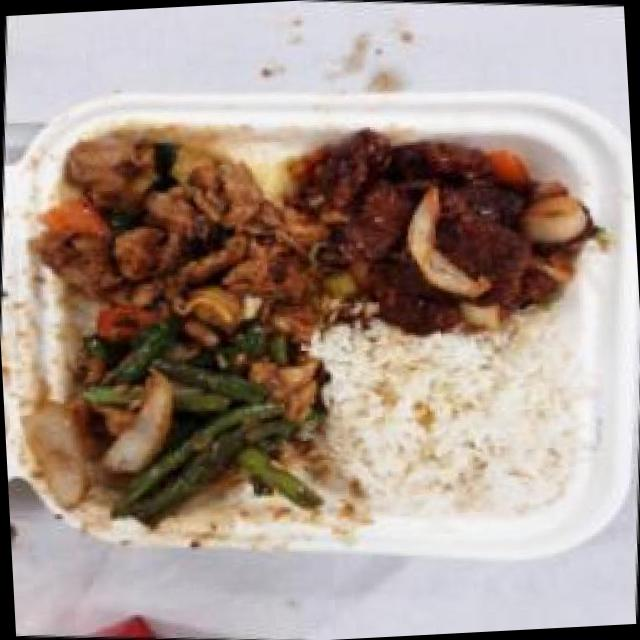Beijing Beef: (284, 102, 606, 346)
Kung Pao Chicken: (24, 110, 333, 350)
String Bean Chicken Breast: (47, 306, 321, 534)
White Steamed Rice: (307, 309, 596, 533)
